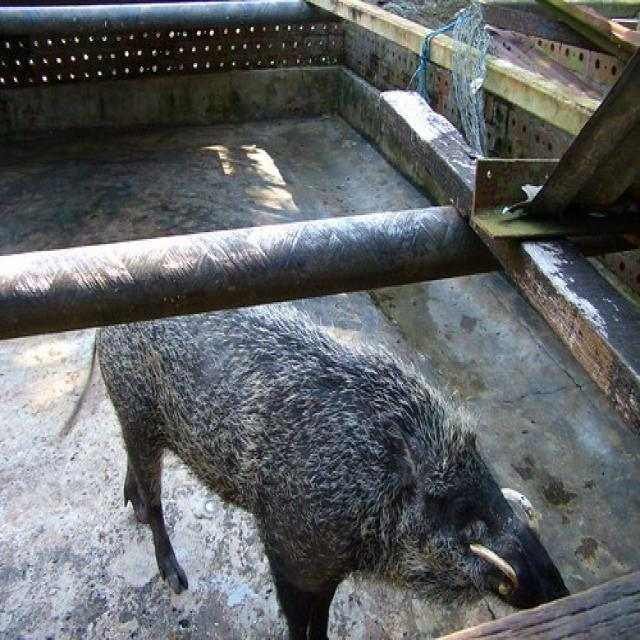boar: (37, 228, 579, 640)
